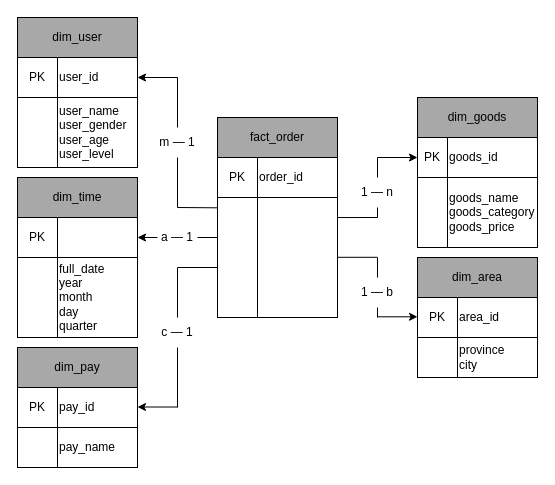
Some shapes in this 555 by 485 pixel diagram are drawn without their labels. The shapes that lost their labels are listed below. From the top down, each one's box as (x1, y1, x2, y2) in pixels, then its label:
(56, 216, 138, 258): time_id
(216, 196, 258, 318): FK1 FK2 FK3 FK4 FK5
(256, 196, 338, 318): user_id goods_id time_id area_id pay_id order_num order_amount order_status
